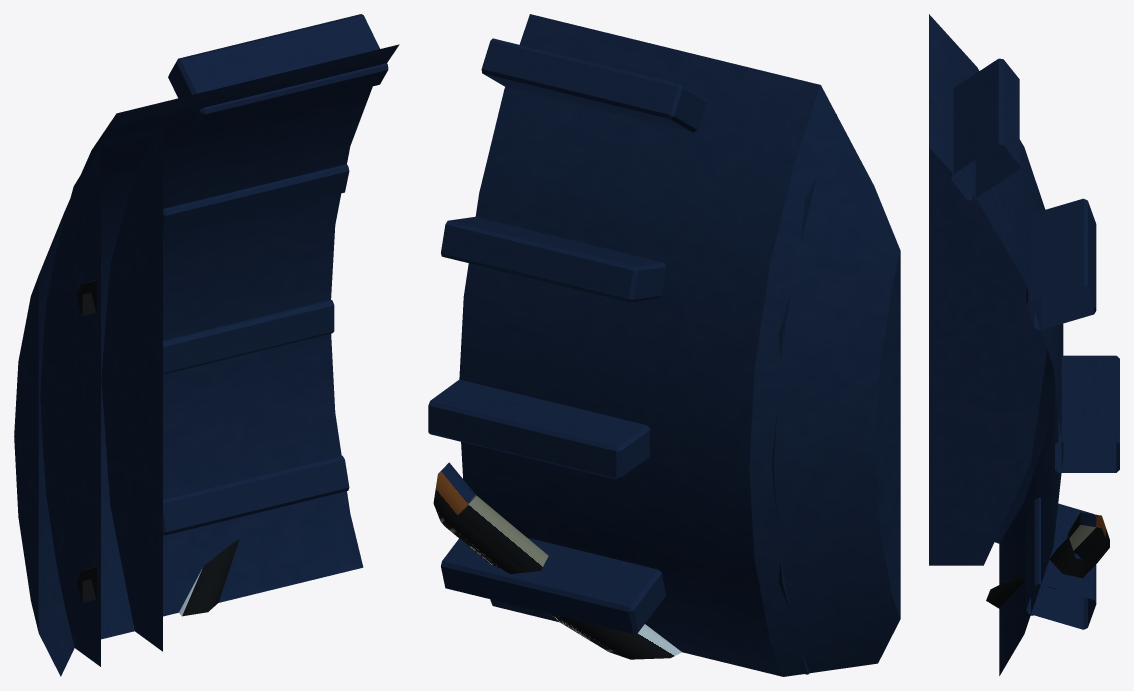
File: cell_21.obj
3 renders of one model, left to right at view 1: azimuth 30°, elevation 25°; view 2: azimuth 150°, elevation 25°; view 3: azimuth 270°, elevation 25°, orthographic. The views are drawn at different scales.
Visible parts, largest first — view 1: cell_21; view 2: cell_21; view 3: cell_21.
Boxes of the visible parts, left/top/right/bottom form: cell_21: left=14, top=14, right=399, bottom=676; cell_21: left=428, top=14, right=900, bottom=676; cell_21: left=929, top=14, right=1119, bottom=675.
Bounding box in the file's own units: 0.5342 × 0.7815 × 0.2538.
